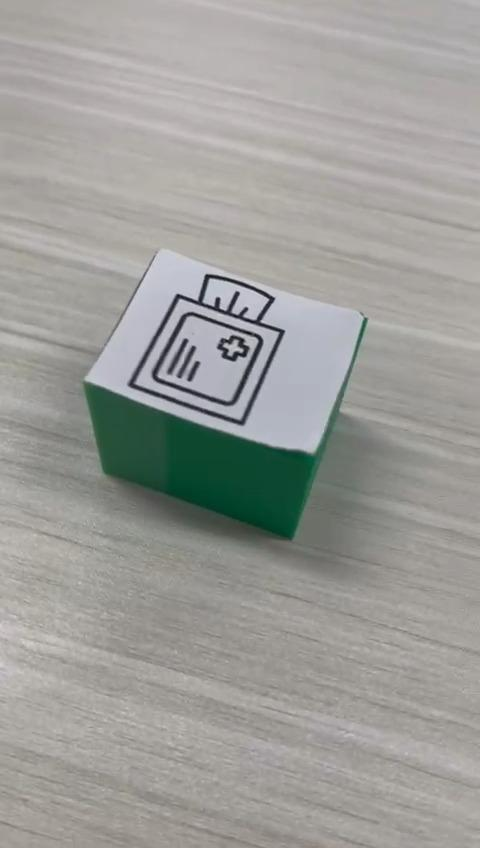Gauze: (82, 246, 368, 541)
